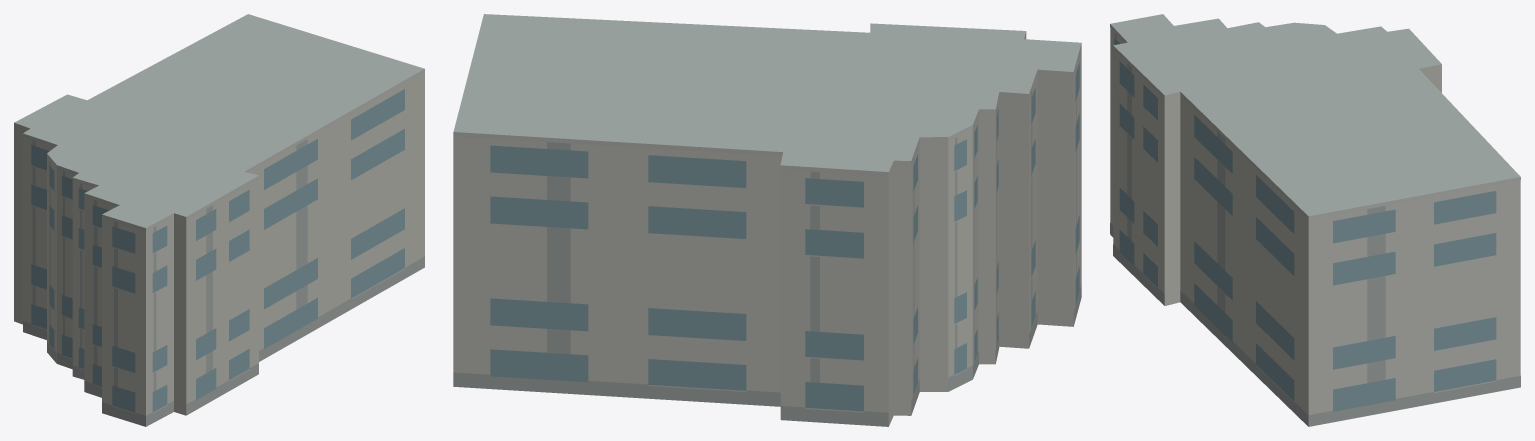
Rendered from survey-upis-32781239.glb.
3 views of the same model, side by side, from view 1: azimuth 30°, elevation 25°; view 2: azimuth 150°, elevation 25°; view 3: azimuth 270°, elevation 25° (orthographic). The views are drawn at different scales.
Parts seen in each view (by area): view 1: survey-upis-32781239.tmp; view 2: survey-upis-32781239.tmp; view 3: survey-upis-32781239.tmp.
Part boxes in pixels (<box>): survey-upis-32781239.tmp: <box>14,14,424,426</box>; survey-upis-32781239.tmp: <box>453,14,1081,426</box>; survey-upis-32781239.tmp: <box>1110,14,1520,426</box>.
Size of the model in its own units: 29.07 by 14.1 by 24.93.
